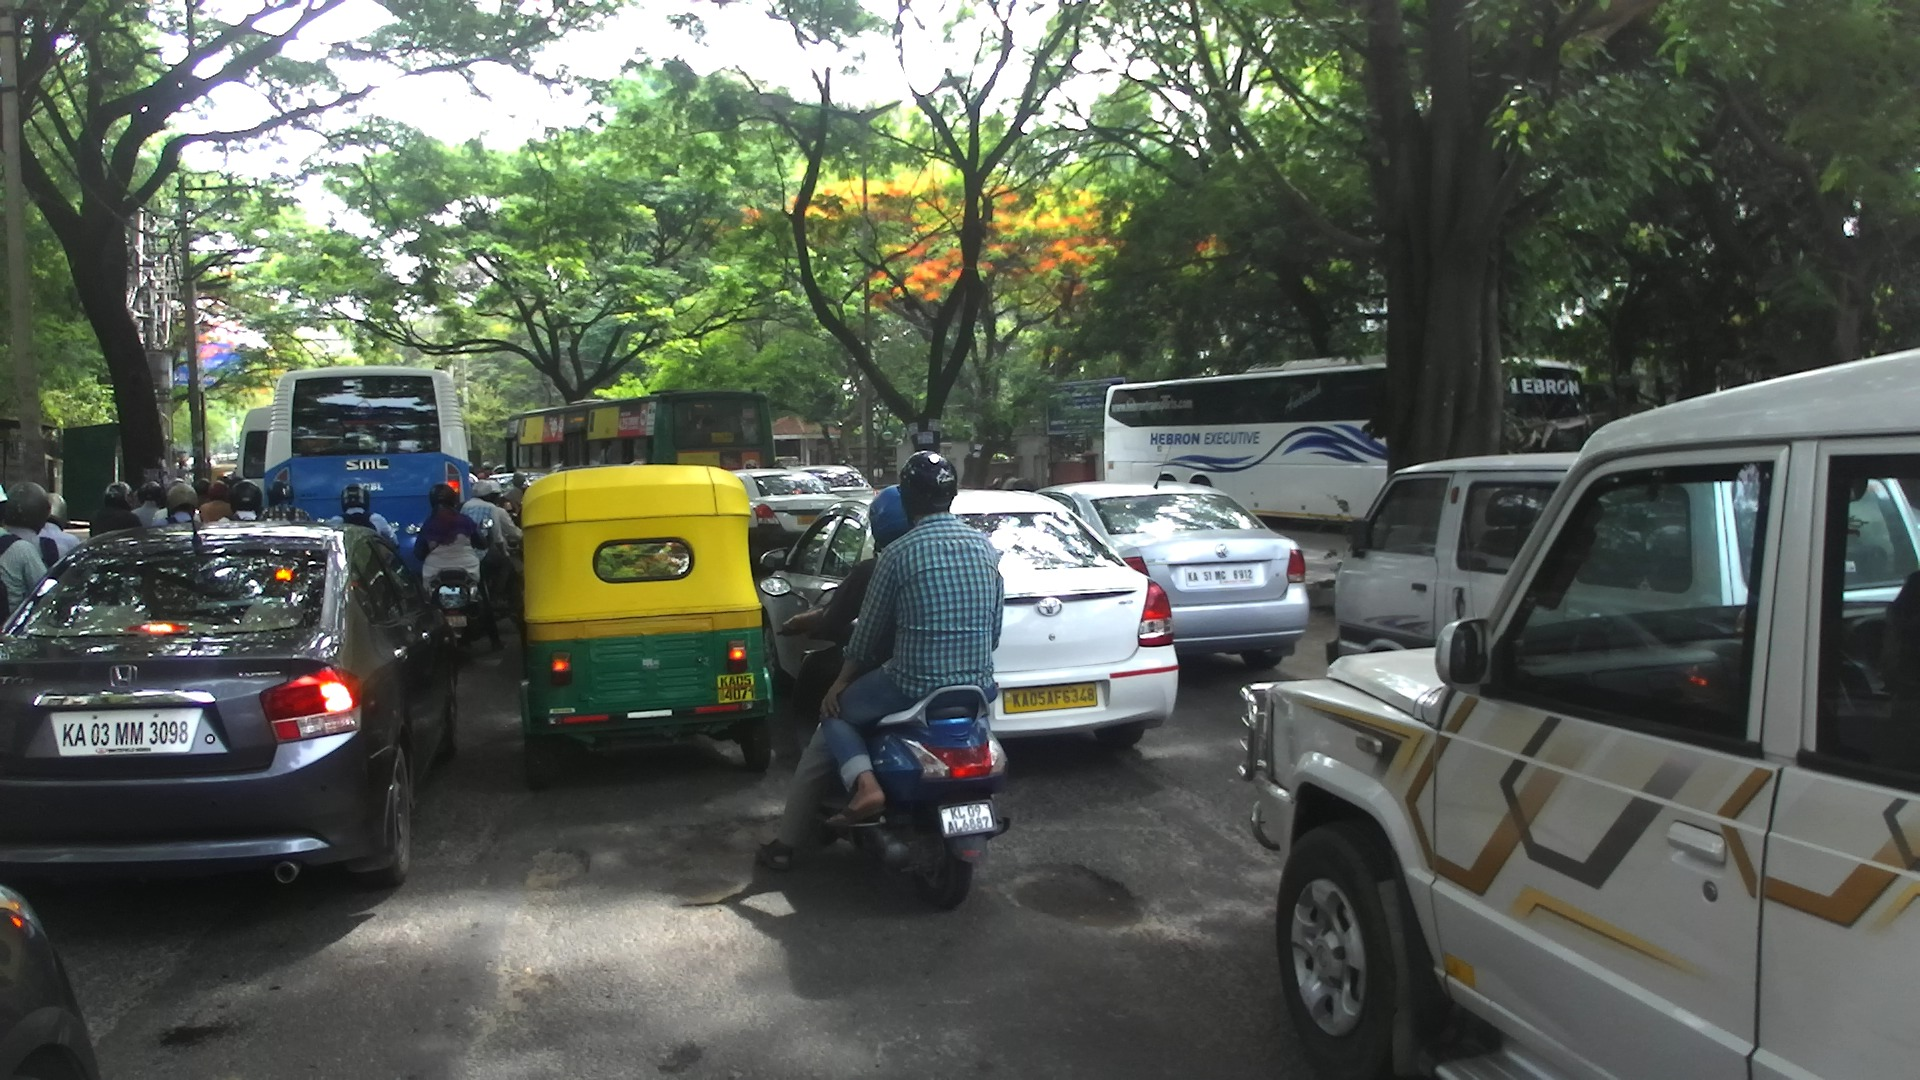autorickshaw: (513, 464, 769, 790)
bus: (1104, 358, 1590, 519), (265, 366, 471, 580), (501, 388, 775, 477), (235, 406, 270, 500)
car: (1234, 351, 1919, 1076), (1, 511, 475, 890), (756, 489, 1179, 750), (1035, 441, 1312, 671), (1327, 455, 1581, 665), (1, 888, 105, 1078), (731, 467, 843, 571), (789, 464, 879, 503), (490, 474, 545, 503), (551, 462, 645, 471)
motorcycle: (761, 578, 1010, 909), (407, 518, 492, 657), (479, 561, 514, 625), (314, 518, 399, 536), (504, 504, 523, 560)
person: (176, 458, 191, 482)
rider: (819, 453, 1007, 810), (761, 485, 913, 865), (412, 484, 505, 653), (1, 488, 54, 632), (464, 481, 511, 616), (2, 480, 60, 572), (488, 479, 525, 620), (325, 482, 398, 552), (39, 491, 81, 566), (90, 482, 143, 539), (149, 486, 205, 533), (263, 479, 311, 526), (219, 481, 266, 524), (200, 480, 233, 527), (129, 482, 161, 532), (504, 471, 530, 524), (194, 475, 212, 509), (990, 470, 1005, 489), (1001, 473, 1017, 490), (1014, 479, 1037, 491), (466, 464, 479, 484), (165, 478, 184, 491), (480, 461, 492, 481), (493, 465, 511, 475), (219, 472, 231, 485), (230, 477, 243, 487)
vehicle fallback: (175, 453, 194, 484), (208, 466, 237, 483), (208, 454, 238, 465), (776, 456, 800, 468)
